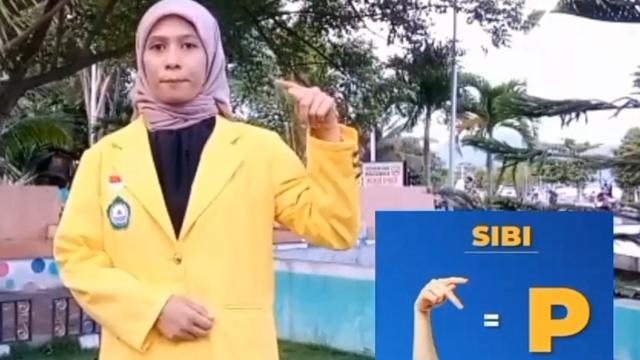P: (268, 73, 349, 145), (414, 274, 472, 324)
